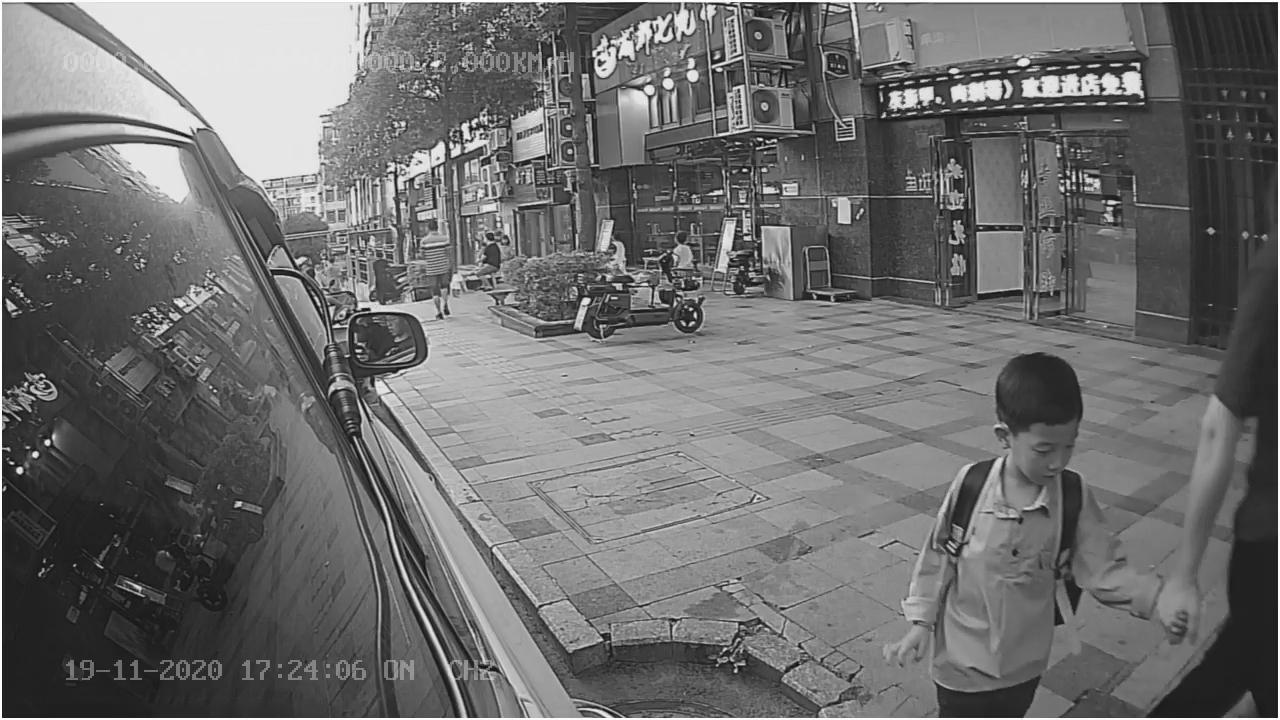person: (884, 352, 1171, 720)
